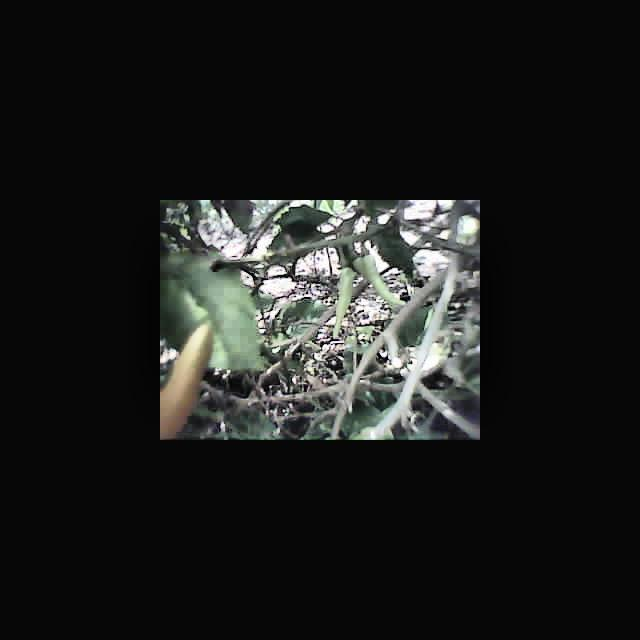Cabai: (160, 318, 201, 439)
